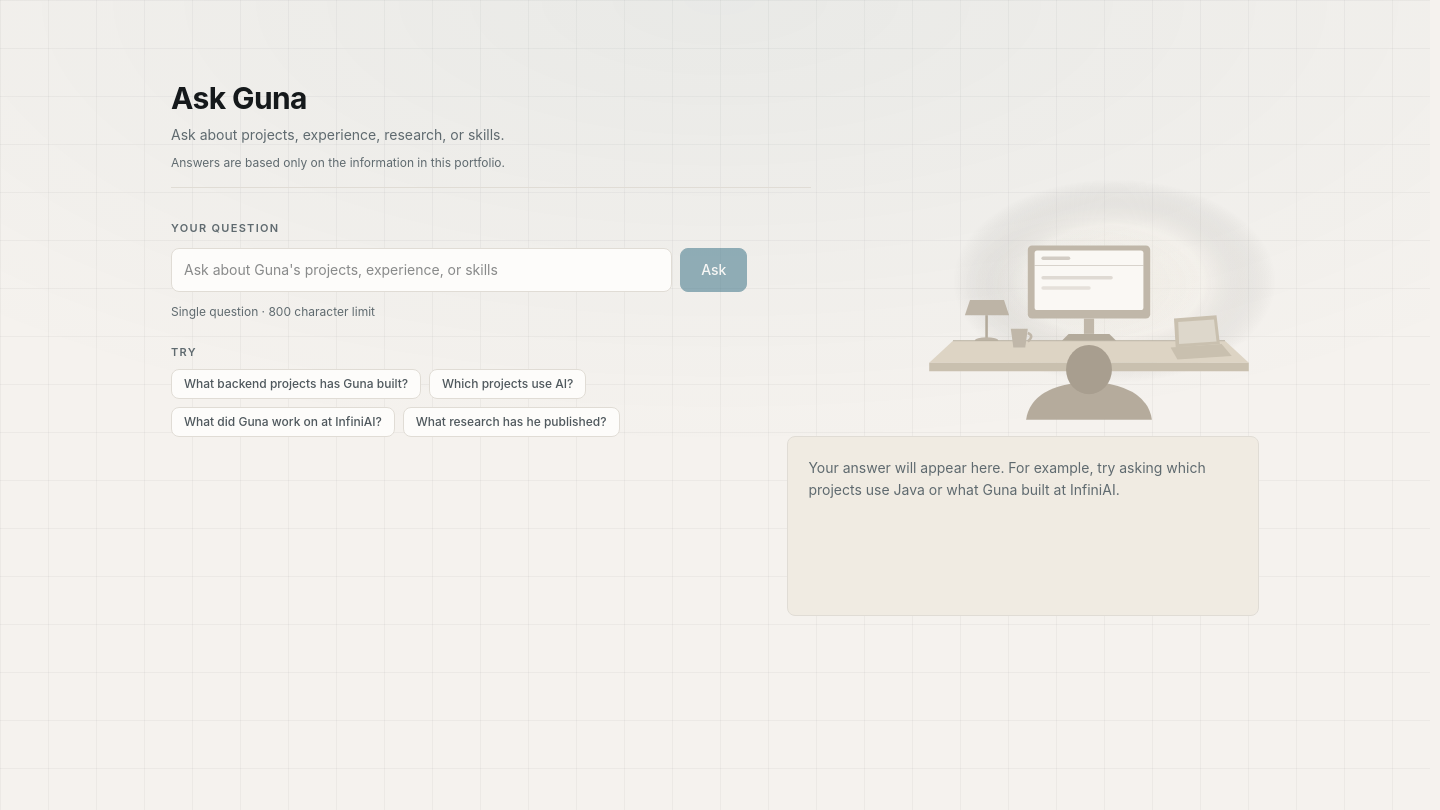
A19 — Ask Guna › 10/11/13 — input, submit and error semantics are preserved
The width and height of the screenshot is (1440, 810).
expect the label "Your question" is shown: met, box [171,221,280,235]
expect the submit button is disabled: met, box [680,248,747,292]
In the field with id "ask-guna-input": (422, 270) [171,248,672,292], type "hi"
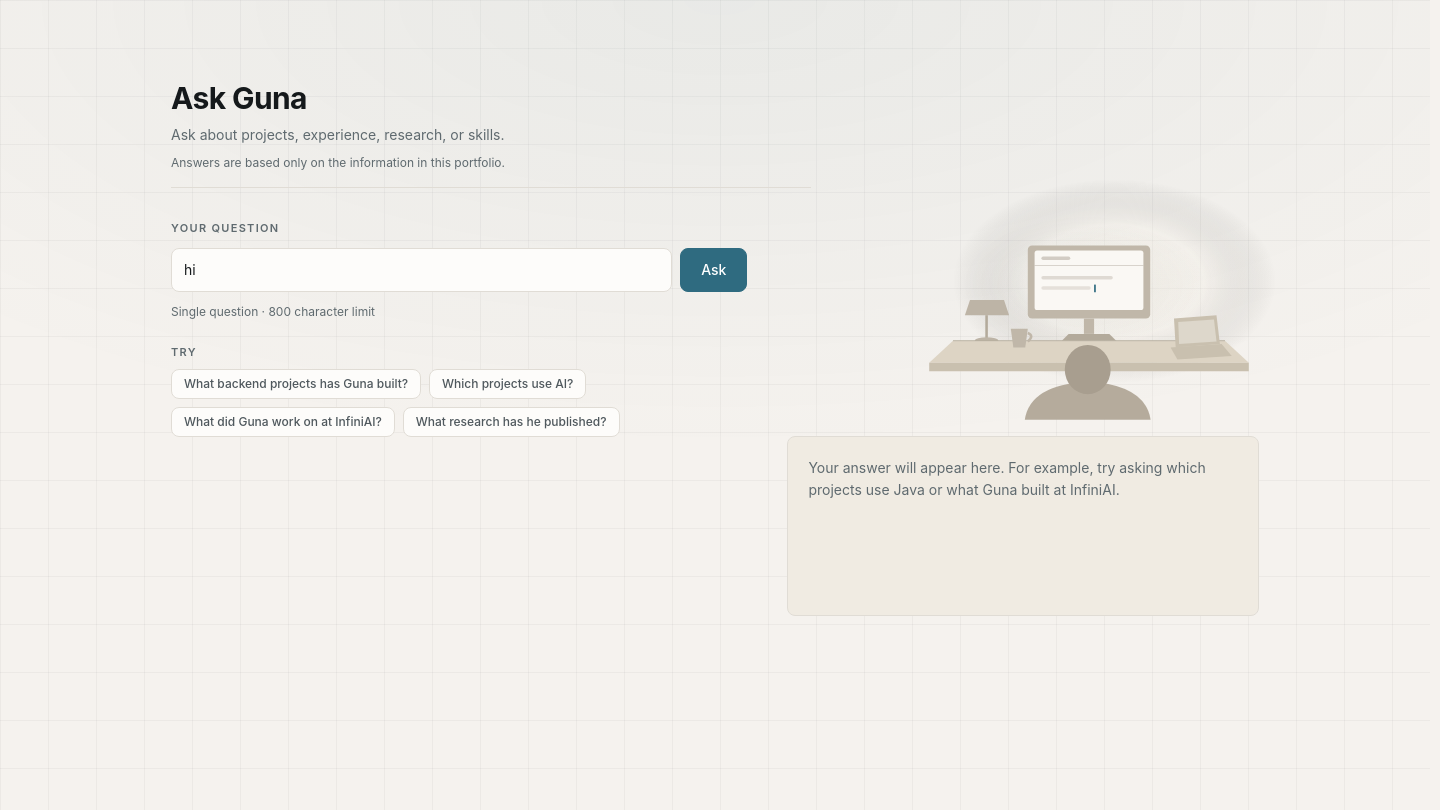
expect the submit button is enabled: met, box [680,248,747,292]
